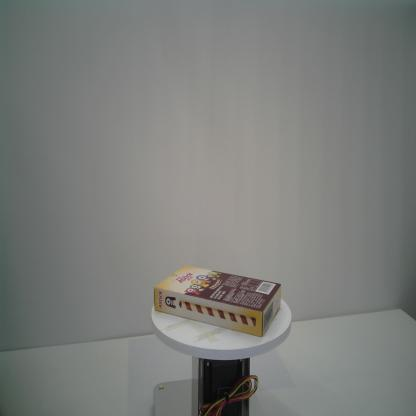Dessert: (152, 263, 282, 338)
